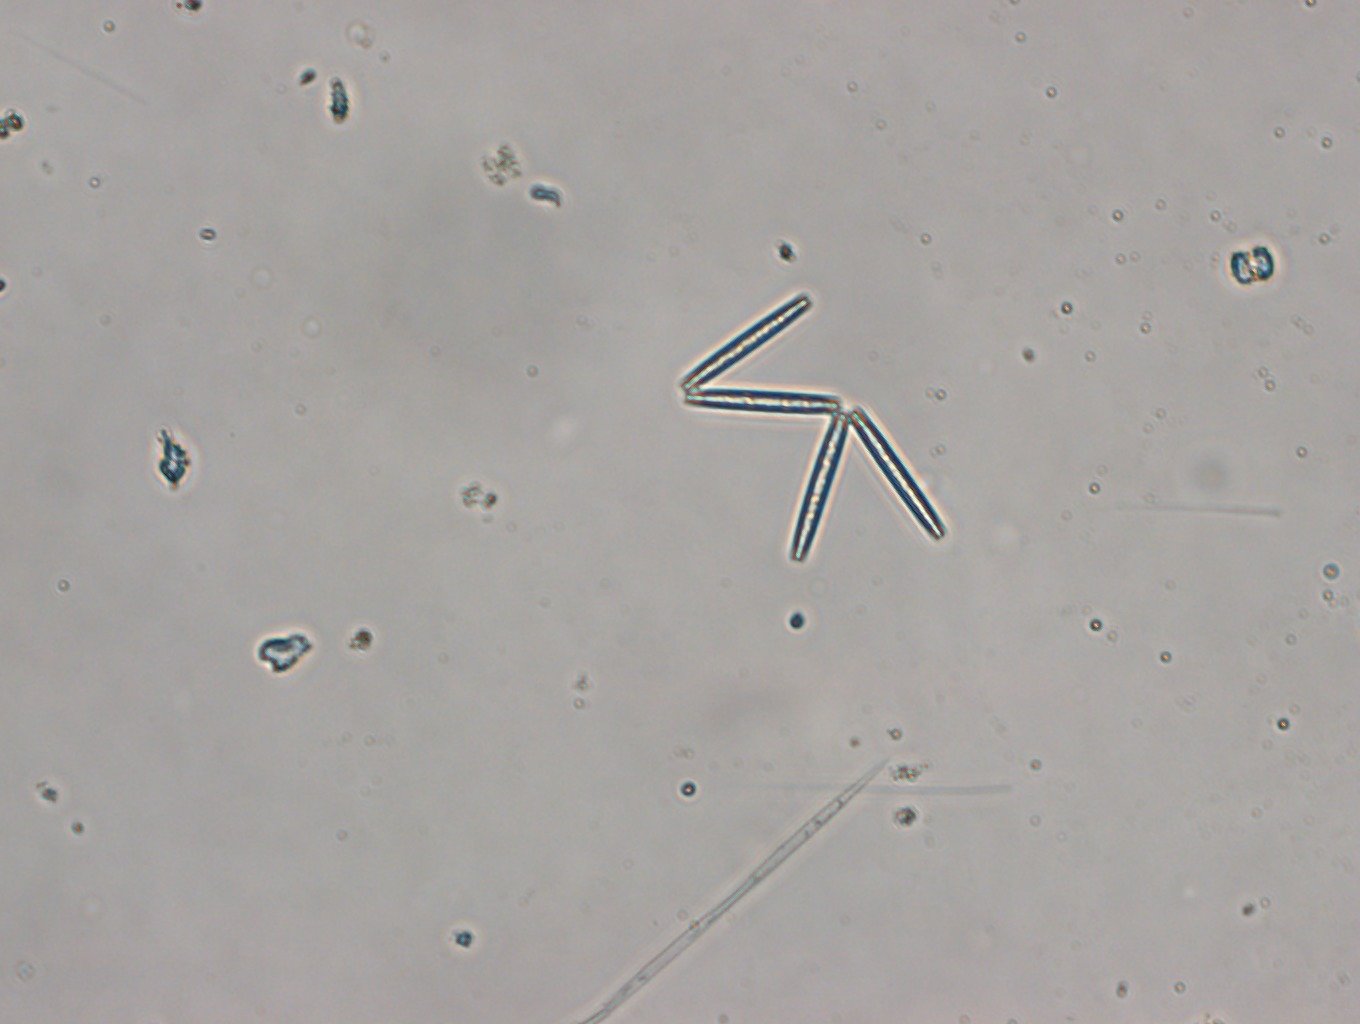thalassionema nitzschioides: (678, 289, 946, 563)
